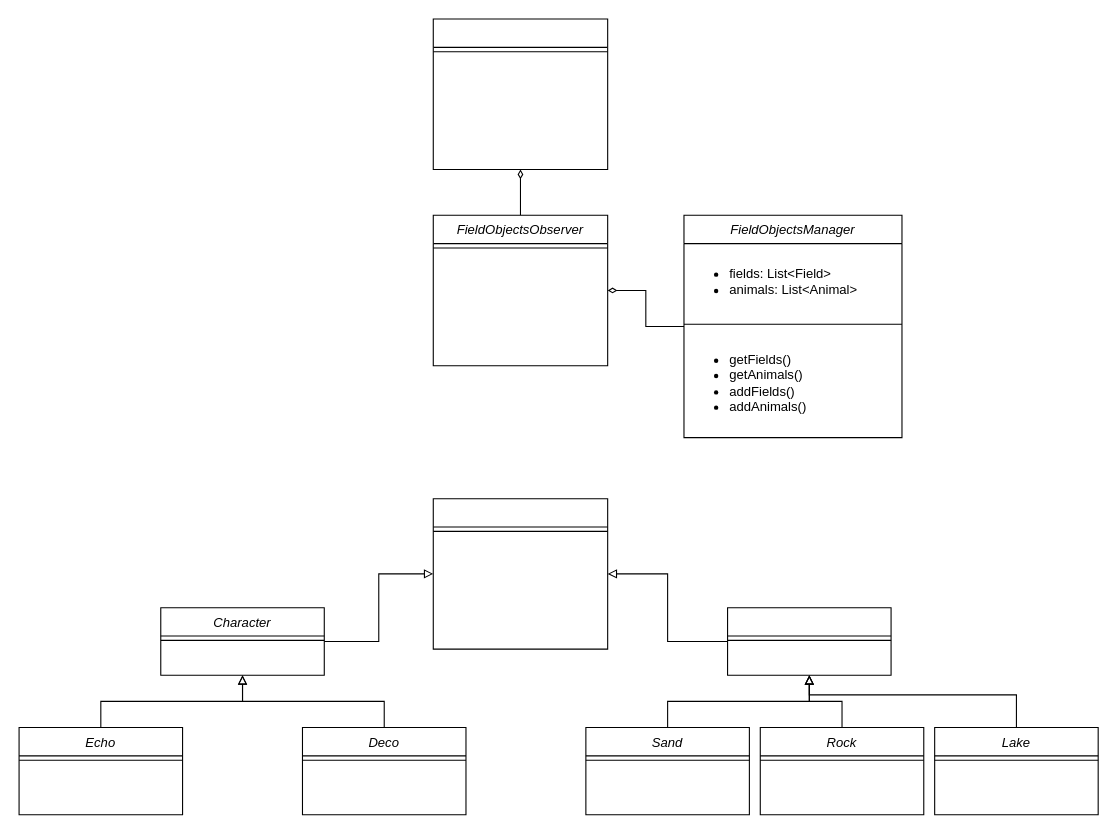
This 1117x834 diagram has some shape labels left out. The shapes that lost their labels are listed below. From the top down, each one's centre as x and y in pixels, then its label:
At [520,93]: "GameManager".
At [520,573]: "GameObject".
At [808,641]: "Field".
